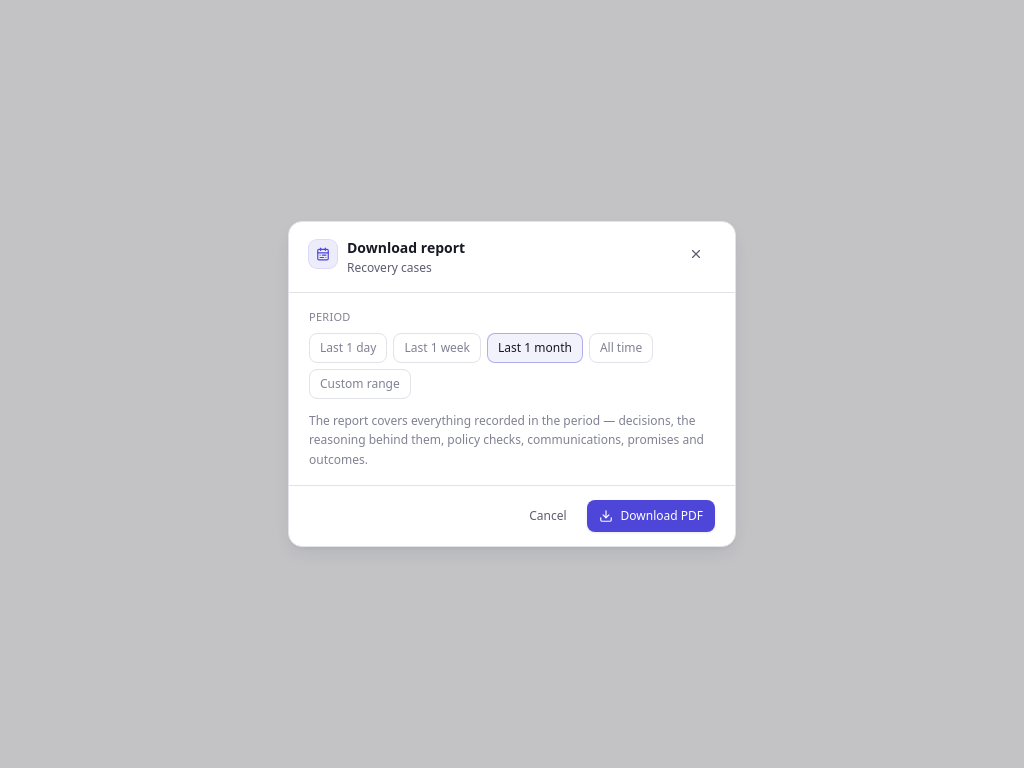
it: generating the report › reports a failure without closing, so the choice is not lost
Click the button "Download PDF".
click(651, 516)  # box [586,500,715,532]
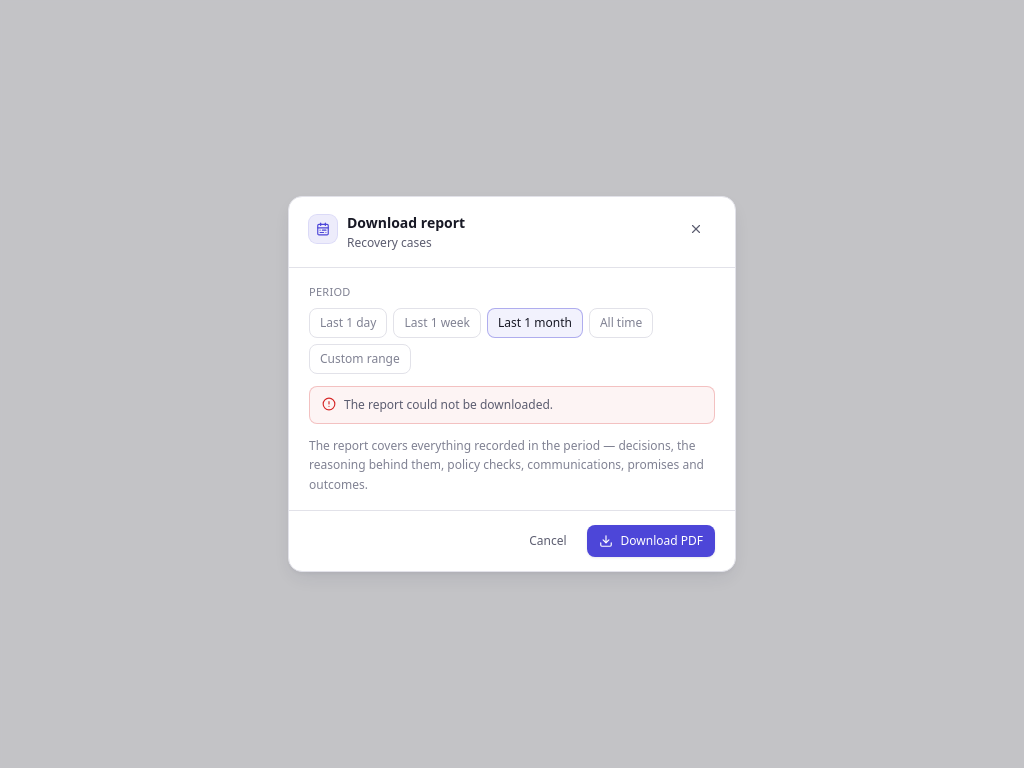
Check: the text "The report could not be downloaded." is shown, box [309,386,715,424]
